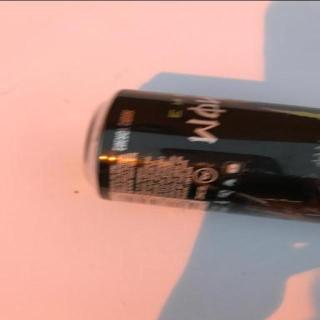Anorganik: (81, 83, 320, 229)
